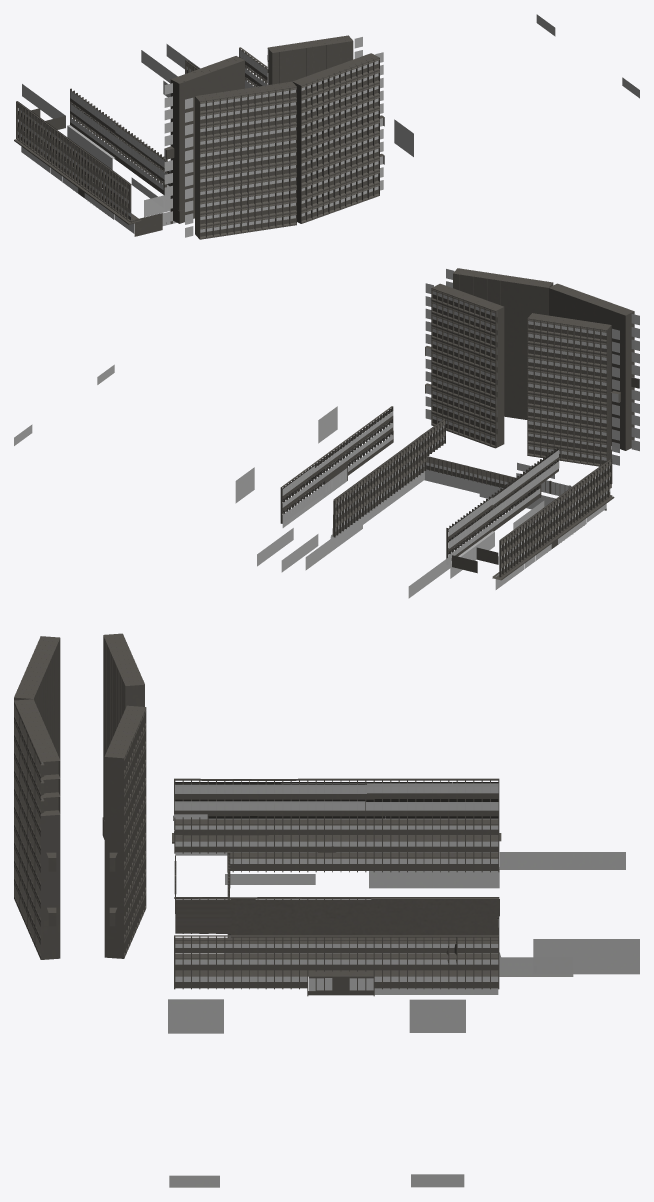
The model's file is frame.glb.
The picture shows the model from 3 angles, top to bottom: view 1: azimuth 30°, elevation 25°; view 2: azimuth 150°, elevation 25°; view 3: azimuth 270°, elevation 25°; orthographic projection. The views are drawn at different scales.
Parts seen in each view (by area): view 1: frame raw; view 2: frame raw; view 3: frame raw.
Part boxes in pixels (<box>): frame raw: <box>14,14,639,239</box>; frame raw: <box>14,268,639,598</box>; frame raw: <box>14,633,639,1187</box>.
Bounding box in the file's own units: 11.03 × 3.44 × 8.18.
1 material, 1 textured.
